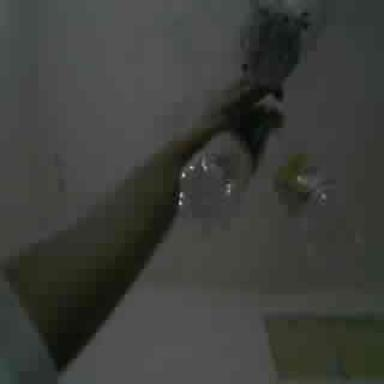bottle: (272, 154, 354, 262), (180, 136, 250, 218)
paper: (241, 0, 325, 86)
